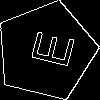E: (21, 26, 75, 70)
